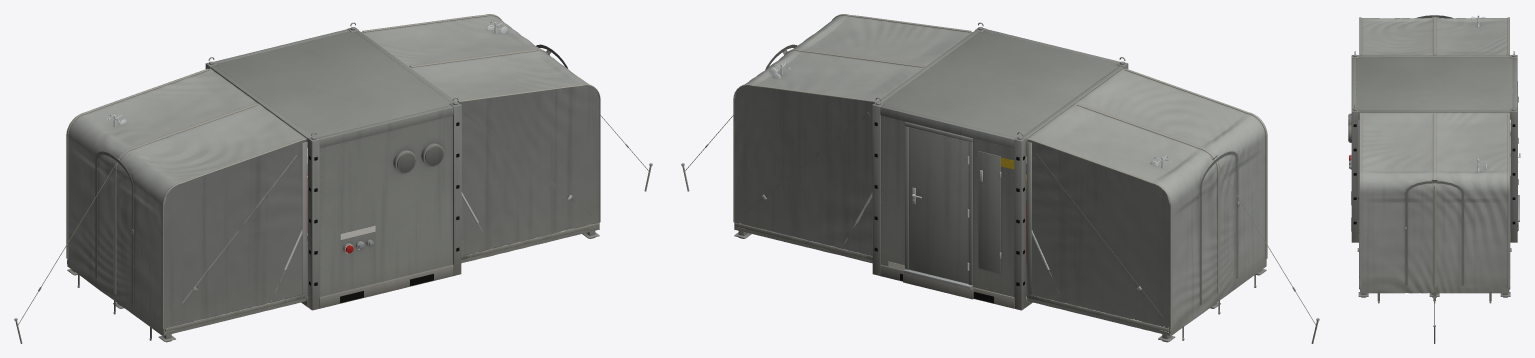
Rendered from ateps-deployed-fitted-web.glb.
3 views of the same model, side by side, from view 1: azimuth 30°, elevation 25°; view 2: azimuth 150°, elevation 25°; view 3: azimuth 270°, elevation 25° (orthographic). The views are drawn at different scales.
Parts seen in each view (by area): view 1: ATEPS_expansion_L, ATEPS_core, ATEPS_expansion_R, ATEPS_side_wall_L, ATEPS_side_wall_R; view 2: ATEPS_expansion_L, ATEPS_core, ATEPS_expansion_R, ATEPS_side_wall_L, ATEPS_side_wall_R, ATEPS_site_kit; view 3: ATEPS_expansion_R, ATEPS_core, ATEPS_expansion_L, ATEPS_fitout, ATEPS_site_kit.
Boxes of the visible parts, left/top/right/bottom form: ATEPS_expansion_L: left=66, top=68, right=307, bottom=342; ATEPS_core: left=205, top=22, right=482, bottom=310; ATEPS_expansion_R: left=361, top=14, right=600, bottom=263; ATEPS_side_wall_L: left=165, top=294, right=306, bottom=331; ATEPS_side_wall_R: left=461, top=222, right=598, bottom=259; ATEPS_expansion_L: left=1026, top=68, right=1267, bottom=342; ATEPS_core: left=844, top=22, right=1128, bottom=310; ATEPS_expansion_R: left=733, top=14, right=972, bottom=263; ATEPS_side_wall_L: left=1027, top=294, right=1168, bottom=331; ATEPS_side_wall_R: left=735, top=222, right=872, bottom=259; ATEPS_site_kit: left=681, top=49, right=1319, bottom=343; ATEPS_expansion_R: left=1357, top=112, right=1511, bottom=303; ATEPS_core: left=1348, top=51, right=1520, bottom=242; ATEPS_expansion_L: left=1359, top=15, right=1510, bottom=135; ATEPS_fitout: left=1358, top=14, right=1510, bottom=232; ATEPS_site_kit: left=1431, top=16, right=1437, bottom=343.
Size of the model in its own units: 9.11 by 2.6 by 2.75.
80 materials, 32 textured.
